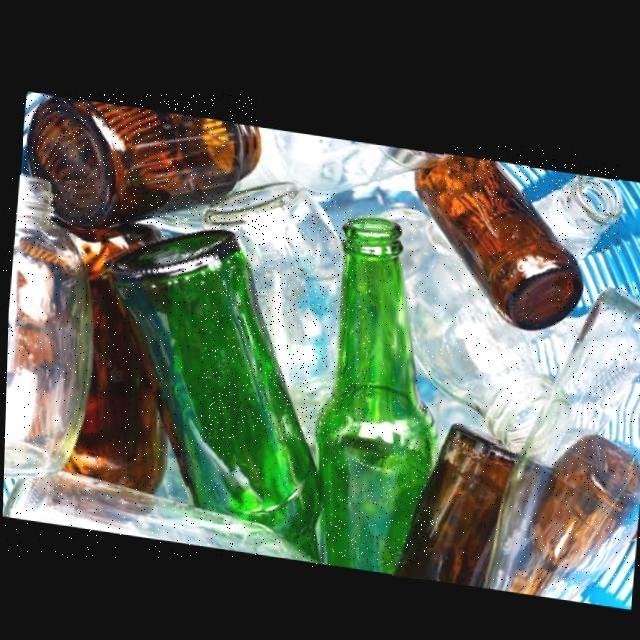glass: (110, 227, 323, 555), (482, 277, 640, 589), (311, 210, 438, 567), (374, 201, 552, 444), (201, 177, 341, 442), (24, 94, 259, 226), (57, 221, 166, 491), (414, 146, 580, 319), (3, 470, 323, 558), (4, 175, 92, 478), (393, 416, 516, 578), (226, 122, 444, 191), (530, 163, 619, 254)
